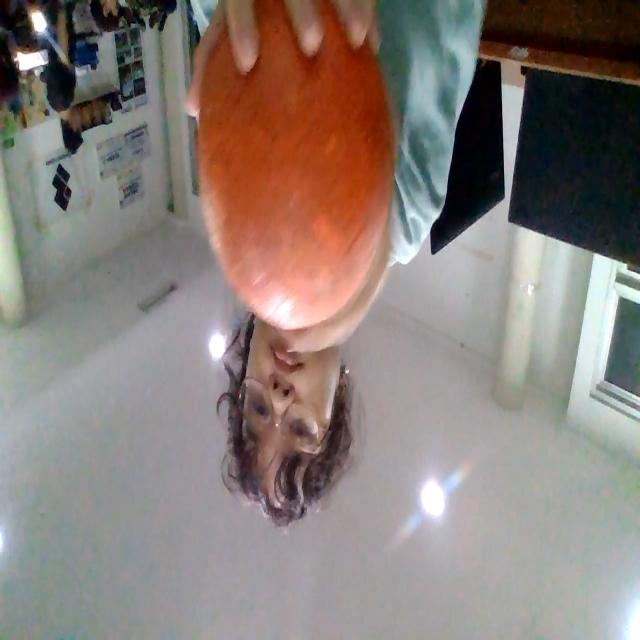ball: (196, 1, 398, 332)
